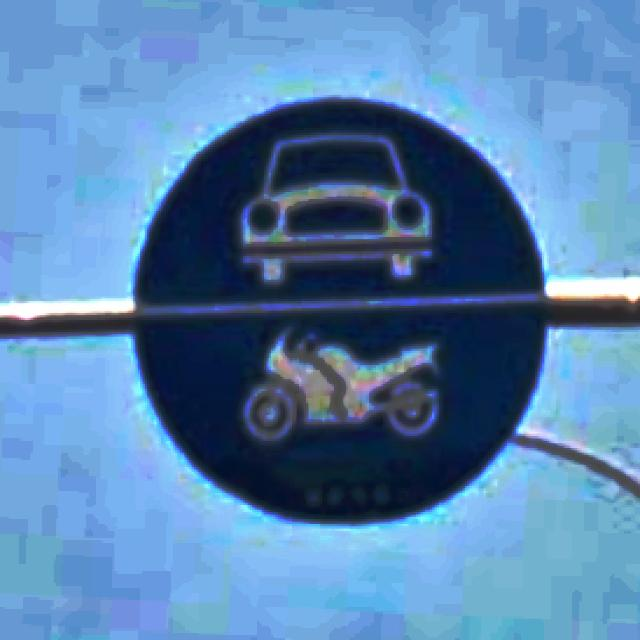carmotorcycle: (131, 95, 549, 524)
